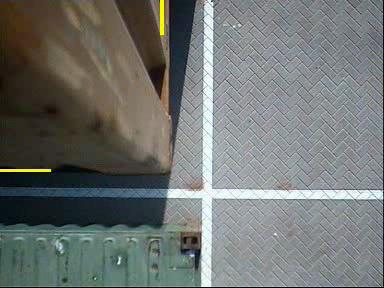groundmarker_2: (172, 87, 242, 139), (195, 226, 231, 279)
